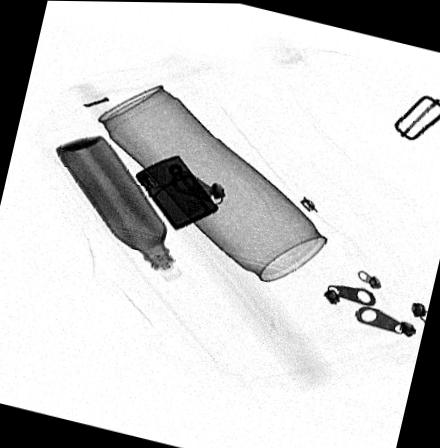Lighter: (133, 152, 218, 229)
